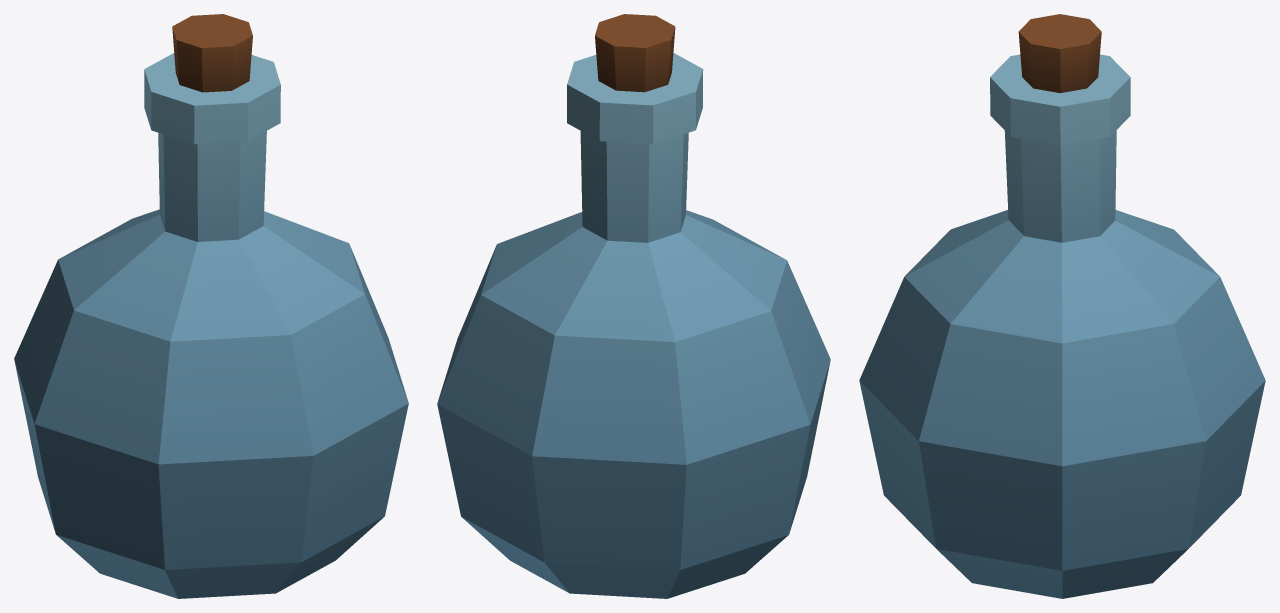
Rendered from mana_small.glb.
3 renders of one model, left to right at view 1: azimuth 30°, elevation 25°; view 2: azimuth 150°, elevation 25°; view 3: azimuth 270°, elevation 25°, orthographic.
Parts seen in each view (by area): view 1: potion_018_blue; view 2: potion_018_blue; view 3: potion_018_blue.
Part boxes in pixels (x1,y1,x2,y2): potion_018_blue: [14, 14, 408, 598]; potion_018_blue: [437, 14, 830, 598]; potion_018_blue: [859, 14, 1265, 598].
Bounding box in the file's own units: 0.1552 × 0.2163 × 0.1552.
1 material, 1 textured.
